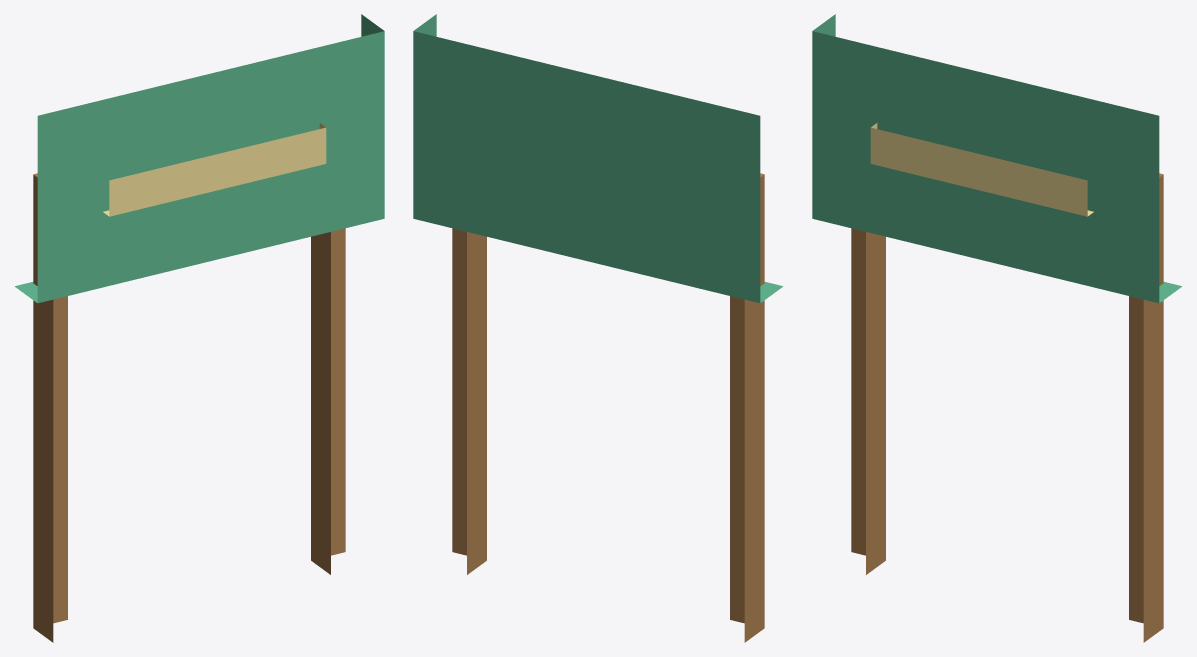
Rendered from sign.glb.
3 views of the same model, side by side, from view 1: azimuth 30°, elevation 25°; view 2: azimuth 150°, elevation 25°; view 3: azimuth 330°, elevation 25° (orthographic).
Size of the model in its own units: 1.2 by 1.76 by 0.18.
